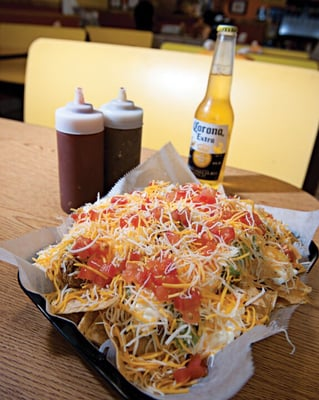burger: (1, 245, 157, 400)
